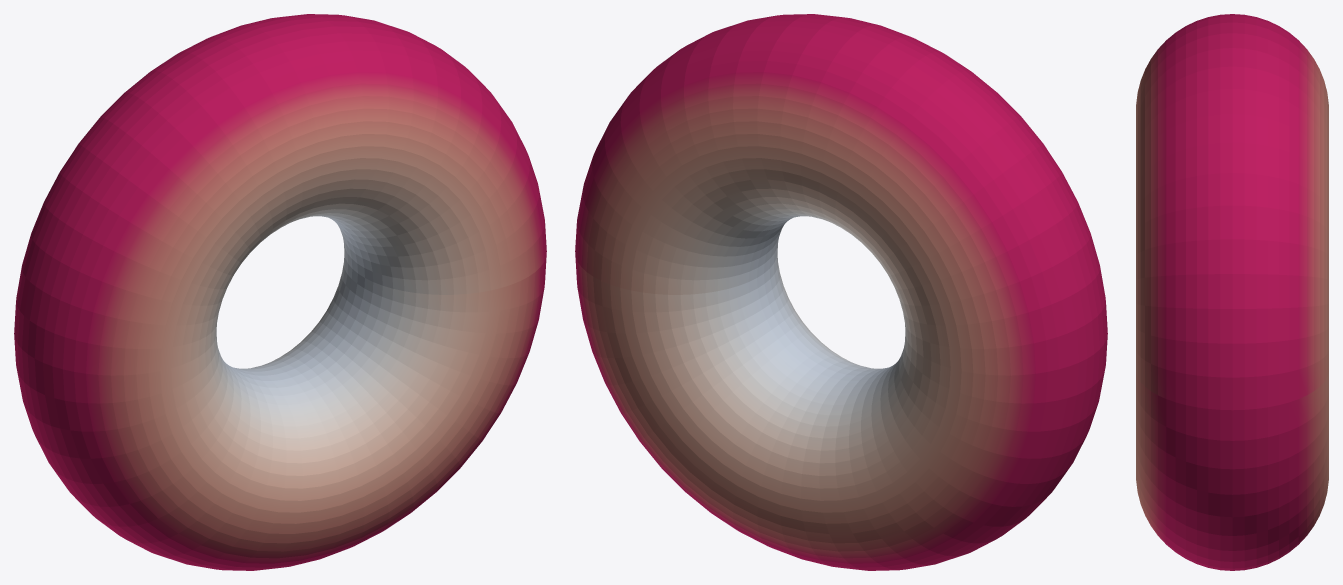
3 views of the same model, side by side, from view 1: azimuth 30°, elevation 25°; view 2: azimuth 150°, elevation 25°; view 3: azimuth 270°, elevation 25° (orthographic). The views are drawn at different scales.
Visible parts, largest first — view 1: world; view 2: world; view 3: world.
Part boxes in pixels (bbox=[...]): world: bbox=[14, 14, 546, 570]; world: bbox=[575, 14, 1107, 570]; world: bbox=[1136, 14, 1328, 570].
Bounding box in the file's own units: 26.53 × 26.48 × 9.18.
